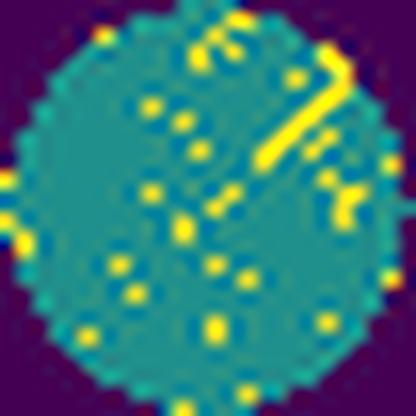Scratch: (249, 40, 356, 178)
